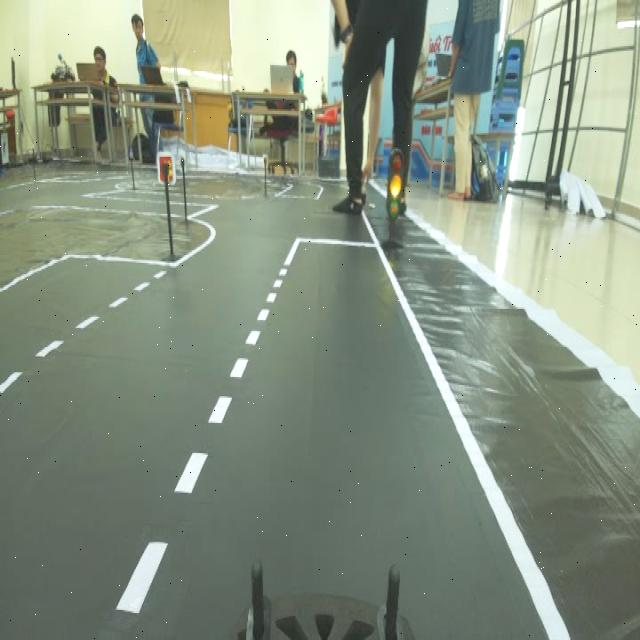trafficlight: (376, 138, 415, 264)
